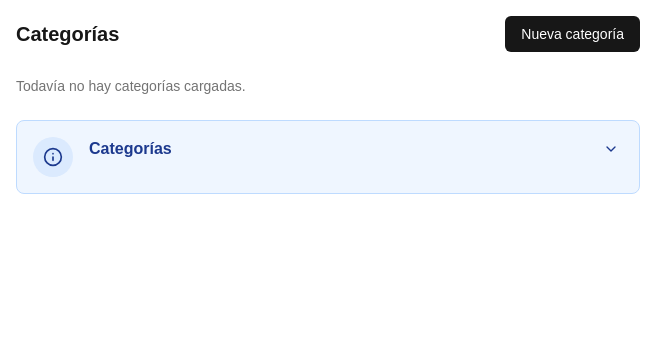
Test: validates required name
Click the button "Nueva categoría" at x=573, y=34, box x1=505 y1=16 x2=640 y2=52
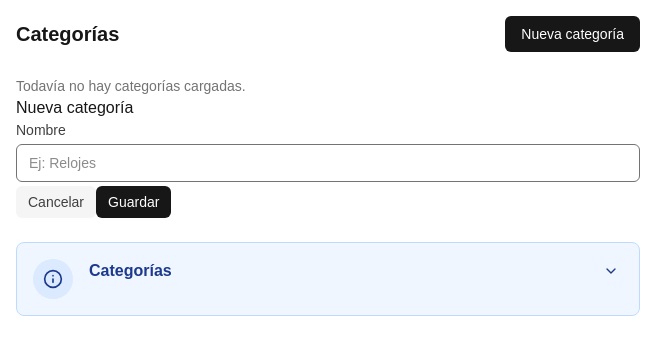
Click the button "Guardar" at x=134, y=202, box x1=96 y1=186 x2=171 y2=218
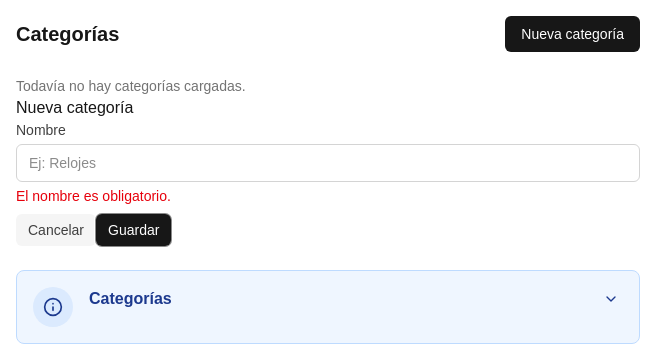
Expected: the text "El nombre es obligatorio." is shown, x1=16 y1=188 x2=171 y2=204
